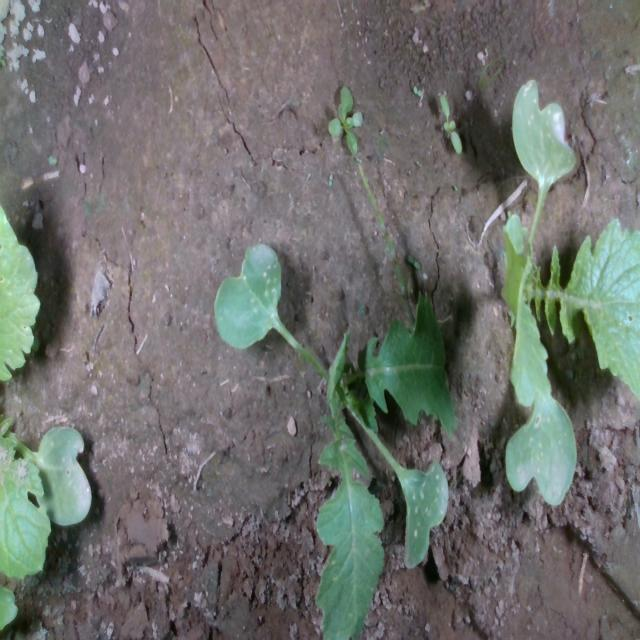weed: (327, 81, 365, 156), (438, 90, 462, 156), (412, 84, 422, 98)
